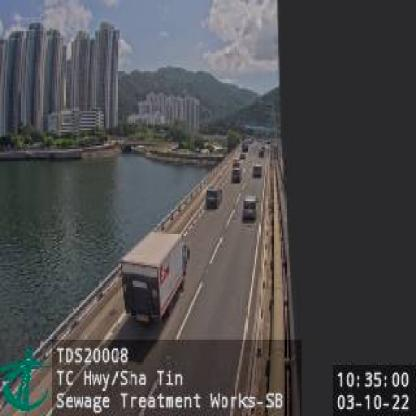Car: (202, 187, 219, 206), (243, 194, 255, 220), (232, 165, 240, 182), (252, 161, 260, 175)
Truck: (121, 229, 188, 320)
